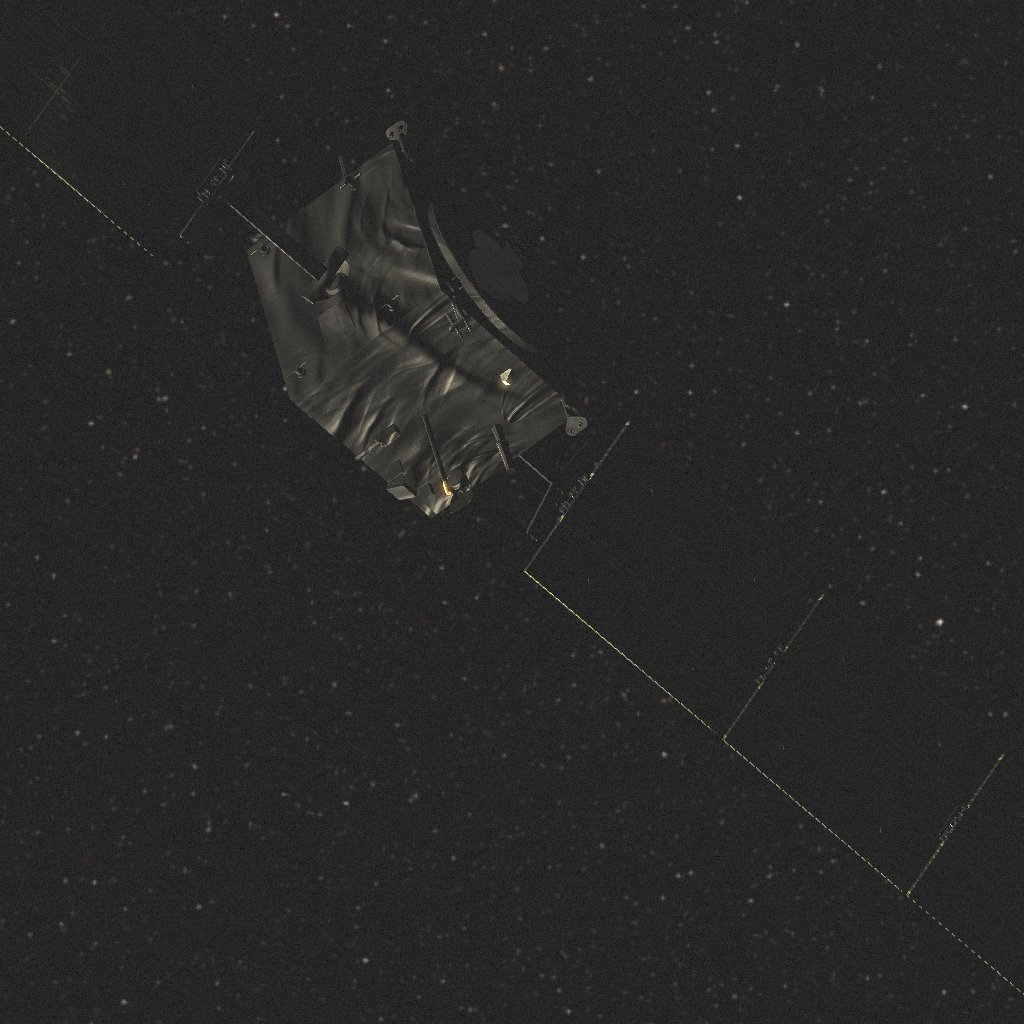smart_1: (0, 0, 1024, 994)
